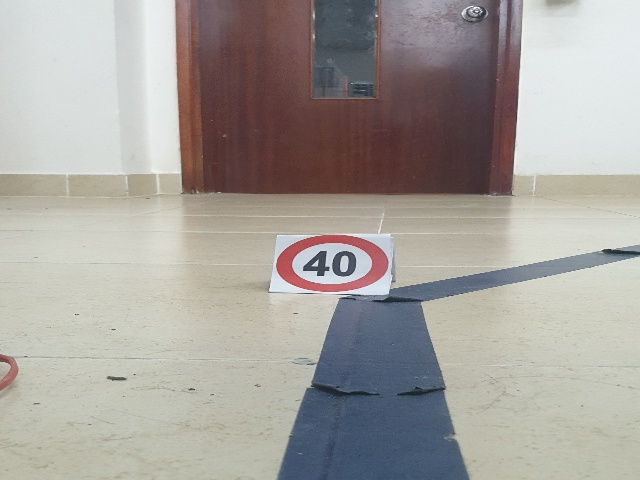Limit 40: (275, 235, 390, 291)
